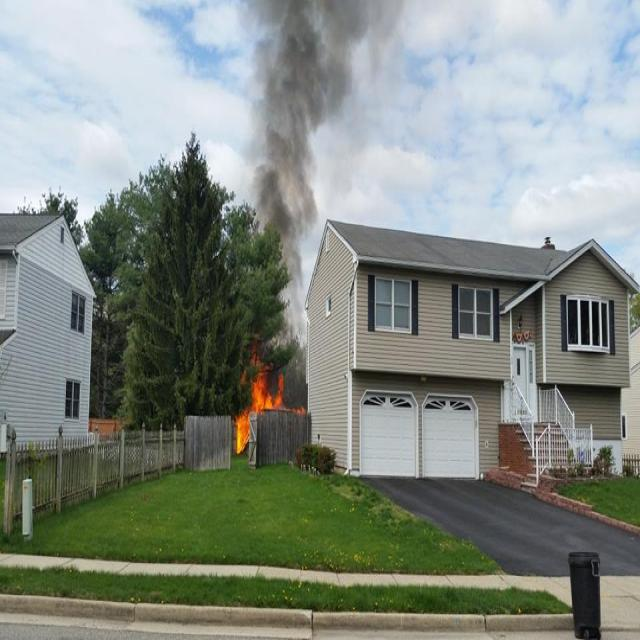fire: (236, 366, 270, 451)
smoke: (258, 0, 402, 85), (253, 89, 328, 226)
